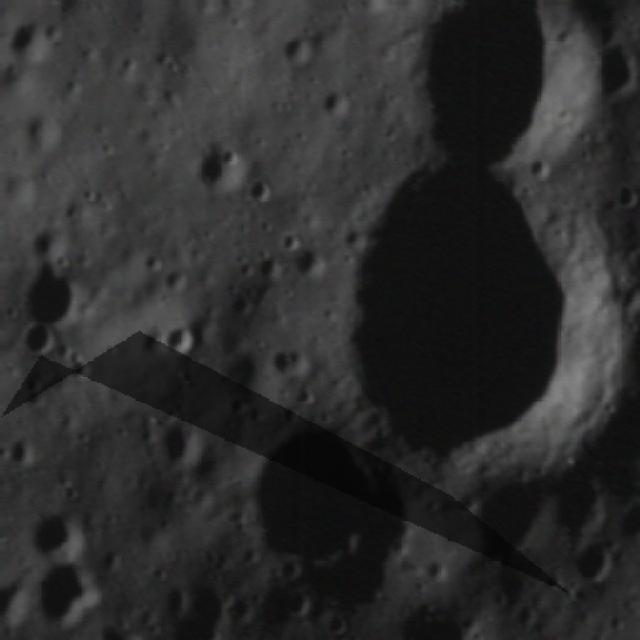crater: (328, 160, 626, 472), (391, 2, 597, 166), (225, 426, 392, 572), (8, 250, 101, 338), (473, 472, 561, 558), (537, 458, 623, 538), (28, 554, 110, 631), (21, 494, 90, 561), (190, 129, 253, 202), (585, 36, 637, 107), (156, 413, 209, 470), (4, 5, 54, 61), (569, 532, 620, 583), (157, 310, 203, 362), (19, 315, 67, 359), (264, 340, 314, 380), (313, 82, 362, 122), (19, 108, 62, 150), (278, 31, 320, 71), (250, 245, 288, 286), (2, 430, 40, 468), (59, 345, 96, 384), (420, 548, 455, 586), (290, 241, 328, 276), (15, 368, 48, 408), (241, 170, 282, 202), (274, 221, 309, 253), (508, 599, 546, 626), (325, 611, 352, 635)
